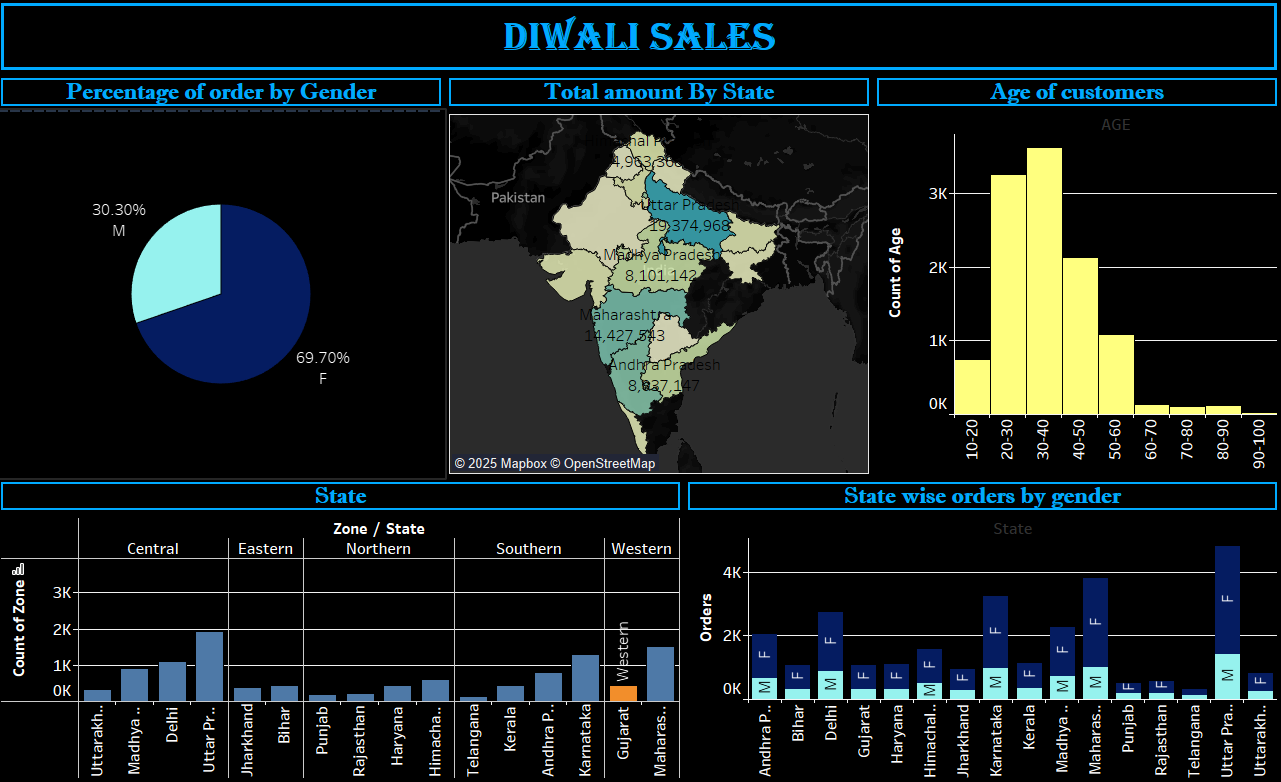

Layout of this report page (visuals, bound fields, positions):
{"tool":"tableau","page":{"name":"Dashboard 1","canvas":[1300,800],"ordinal":0},"visuals":[{"type":"text","box":[8,8,1284,75]},{"type":"text","box":[8,83,448,36]},{"type":"text","box":[456,83,428,36]},{"type":"text","box":[884,83,408,36]},{"type":"worksheet","title":"Percentage of amount by gender","mark":"Pie","box":[8,119,448,368]},{"type":"worksheet","title":"Total amount by state","mark":"Automatic","box":[456,119,428,368]},{"type":"worksheet","title":"Age of customers","mark":"Automatic","rows":["Age"],"cols":["Age (bin)"],"box":[884,119,408,368]},{"type":"text","box":[8,487,687,36]},{"type":"text","box":[695,487,596.8,36]},{"type":"worksheet","title":"State","mark":"Bar","rows":["Zone"],"cols":["Zone","State"],"box":[8,523,687,269]},{"type":"worksheet","title":"state wiseorders by gender","mark":"Automatic","rows":["Orders"],"cols":["State"],"box":[695,523,596.8,269]}]}

Visuals, with their boxes in screenshot pixels (x1, y1, x2, y2), scaled from the page's 1300x800 canvas onto the 1281x782 screenshot:
text: (left=8, top=8, right=1273, bottom=81)
text: (left=8, top=81, right=449, bottom=116)
text: (left=449, top=81, right=871, bottom=116)
text: (left=871, top=81, right=1273, bottom=116)
"Percentage of amount by gender" worksheet (Pie marks): (left=8, top=116, right=449, bottom=476)
"Total amount by state" worksheet: (left=449, top=116, right=871, bottom=476)
"Age of customers" worksheet: (left=871, top=116, right=1273, bottom=476)
text: (left=8, top=476, right=685, bottom=511)
text: (left=685, top=476, right=1273, bottom=511)
"State" worksheet (Bar marks): (left=8, top=511, right=685, bottom=774)
"state wiseorders by gender" worksheet: (left=685, top=511, right=1273, bottom=774)
